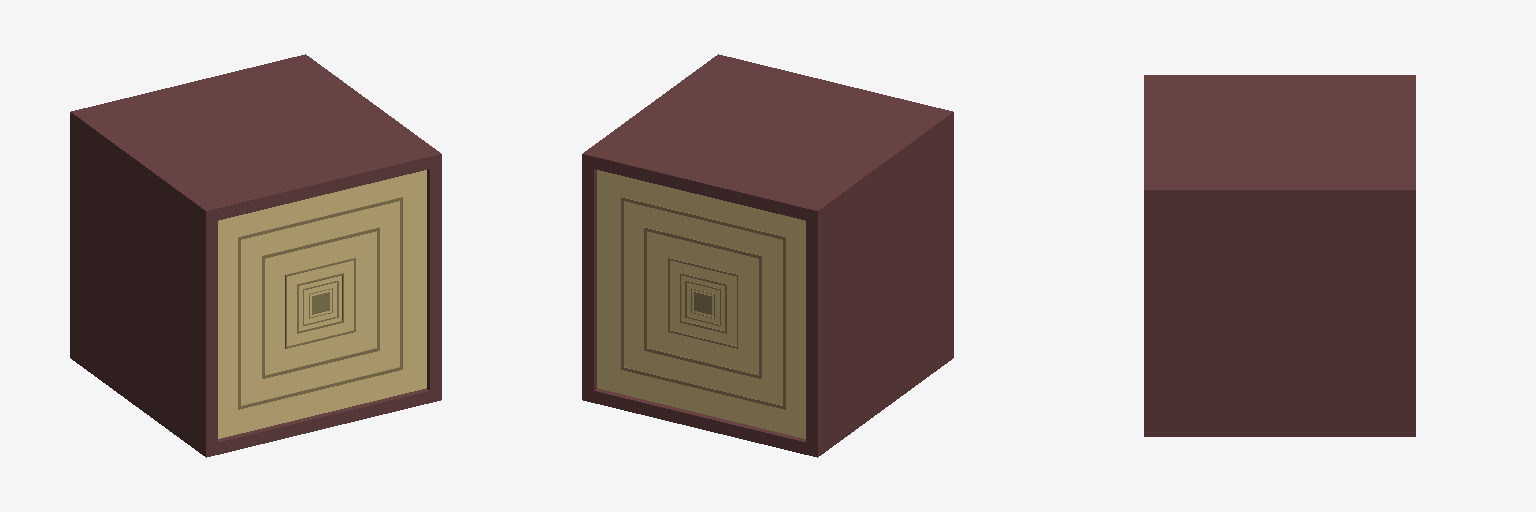
Rendered from log(nomal).obj.
The picture shows the model from 3 angles: view 1: azimuth 30°, elevation 25°; view 2: azimuth 150°, elevation 25°; view 3: azimuth 270°, elevation 25°; orthographic projection.
Visible parts, largest first — view 1: 큐브_1, 큐브, 큐브.1_6, 큐브.1_5, 큐브.1_7, 큐브.1_4; view 2: 큐브_1, 큐브, 큐브.1_6, 큐브.1_5, 큐브.1_7, 큐브.1_4; view 3: 큐브_1.
Boxes of the visible parts, <box> form: 큐브_1: <box>70,54,441,457</box>; 큐브: <box>218,170,426,438</box>; 큐브.1_6: <box>238,197,402,409</box>; 큐브.1_5: <box>262,227,379,378</box>; 큐브.1_7: <box>218,169,429,441</box>; 큐브.1_4: <box>285,258,355,348</box>; 큐브_1: <box>582,54,953,457</box>; 큐브: <box>597,170,805,438</box>; 큐브.1_6: <box>621,197,785,409</box>; 큐브.1_5: <box>644,227,761,378</box>; 큐브.1_7: <box>594,169,805,441</box>; 큐브.1_4: <box>668,258,738,348</box>; 큐브_1: <box>1144,75,1415,436</box>.
Bounding box in the file's own units: 200 × 200 × 200.